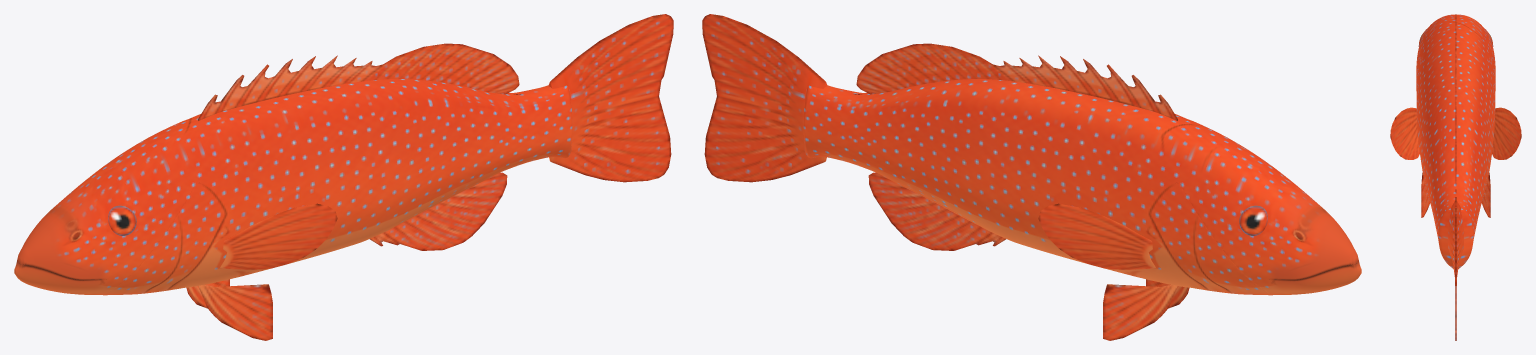
The model's file is sujiara-light-v5.glb.
3 renders of one model, left to right at view 1: azimuth 30°, elevation 25°; view 2: azimuth 150°, elevation 25°; view 3: azimuth 270°, elevation 25°, orthographic. The views are drawn at different scales.
Parts seen in each view (by area): view 1: body, caudal, dorsal, operculum_1, pectoral_1, anal, pelvic_1, eye_1; view 2: body, caudal, dorsal, operculum_-1, pectoral_-1, anal, pelvic_-1, eye_-1; view 3: body, pectoral_-1, pectoral_1, caudal, dorsal, pelvic_-1, pelvic_1.
Part boxes in pixels (left/top/right/bottom): body: left=14, top=79, right=572, bottom=295; caudal: left=548, top=14, right=673, bottom=182; dorsal: left=198, top=43, right=521, bottom=120; operculum_1: left=104, top=183, right=224, bottom=295; pectoral_1: left=220, top=203, right=337, bottom=269; anal: left=370, top=172, right=507, bottom=250; pelvic_1: left=198, top=284, right=272, bottom=340; eye_1: left=108, top=205, right=136, bottom=235; body: left=803, top=79, right=1361, bottom=295; caudal: left=702, top=14, right=827, bottom=182; dorsal: left=854, top=43, right=1177, bottom=120; operculum_-1: left=1151, top=183, right=1271, bottom=295; pectoral_-1: left=1038, top=203, right=1155, bottom=269; anal: left=868, top=172, right=1005, bottom=250; pelvic_-1: left=1103, top=284, right=1177, bottom=340; eye_-1: left=1239, top=205, right=1267, bottom=235; body: left=1416, top=14, right=1495, bottom=268; pectoral_-1: left=1492, top=107, right=1521, bottom=159; pectoral_1: left=1390, top=107, right=1419, bottom=159; caudal: left=1447, top=197, right=1464, bottom=340; dorsal: left=1455, top=14, right=1456, bottom=192; pelvic_-1: left=1482, top=173, right=1490, bottom=217; pelvic_1: left=1421, top=173, right=1429, bottom=217.
Size of the model in its own units: 0.44 by 0.1636 by 0.0947.
Materials: 3 (3 with a texture image).
